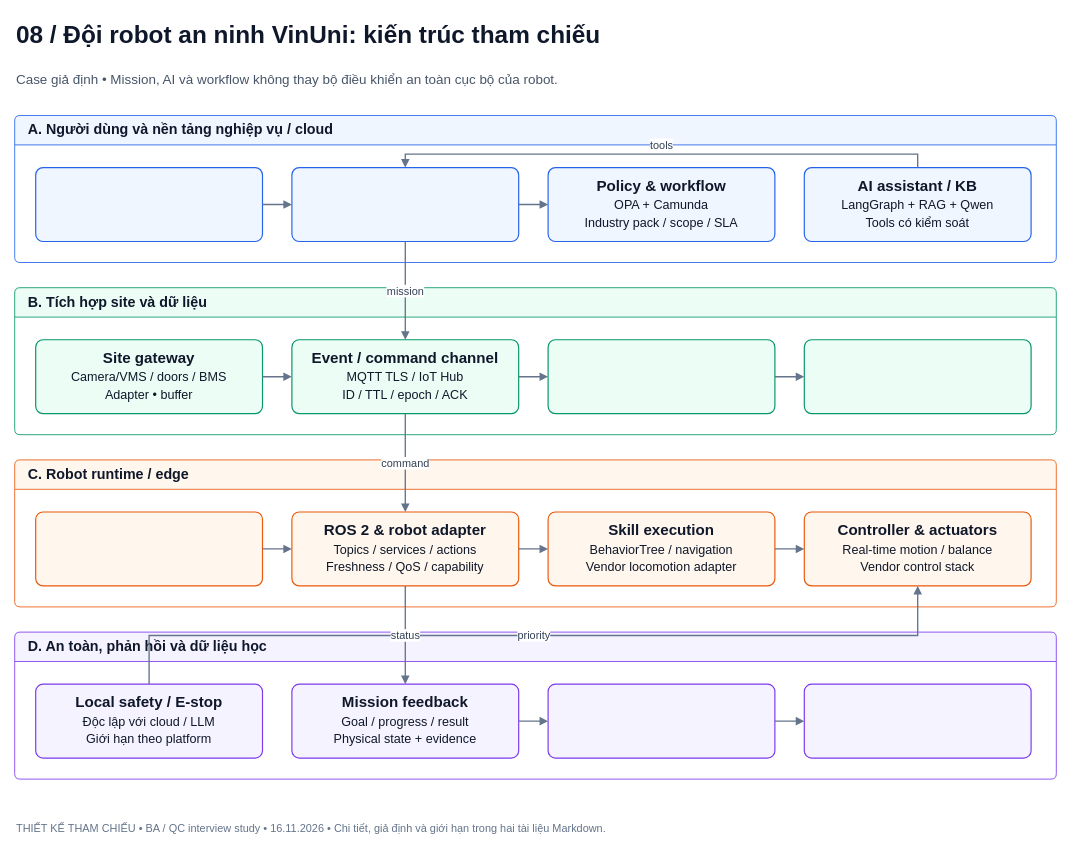
Image size: 1071x861. Some labels were removed from this diagram. Here are the shapes that lost their labels. From the top down, the centre of each, then its label:
At point 149,204: "Bảo vệ / Operations UI React • fleet / incidents Human verification".
At point 405,204: "Mission & fleet backend ASP.NET Core + PostgreSQL Schedule / assignment / state".
At point 661,376: "Cloud data services Blob/ADLS • Service Bus Evidence / audit / registry".
At point 917,376: "Monitoring & release OpenTelemetry / Azure Monitor Manifest / rollout / rollback".
At point 149,548: "Sensor & perception Camera / IMU / LiDAR nếu có YOLOX / tracking / health".
At point 661,720: "Robot dataset Episode / rosbag2 / MCAP Map / robot / policy versions".
At point 917,720: "Evaluation & approval Offline → SIL/HIL → field Safety + quality evidence".
